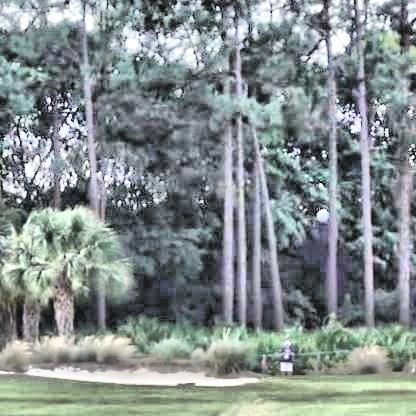golfball: (315, 206, 327, 219)
